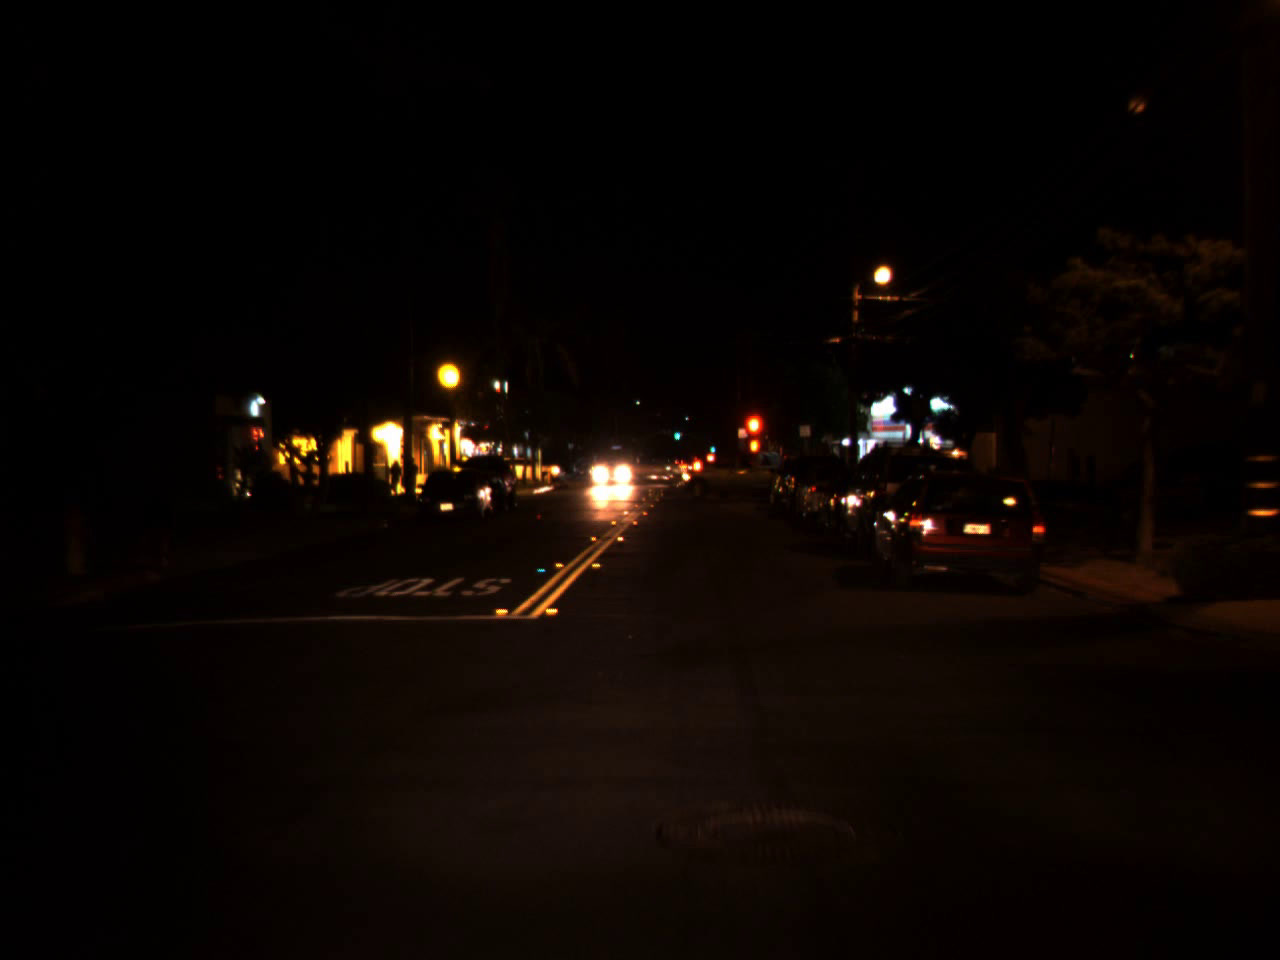go: (672, 424, 681, 442), (707, 438, 716, 453)
stop: (739, 411, 766, 459)
